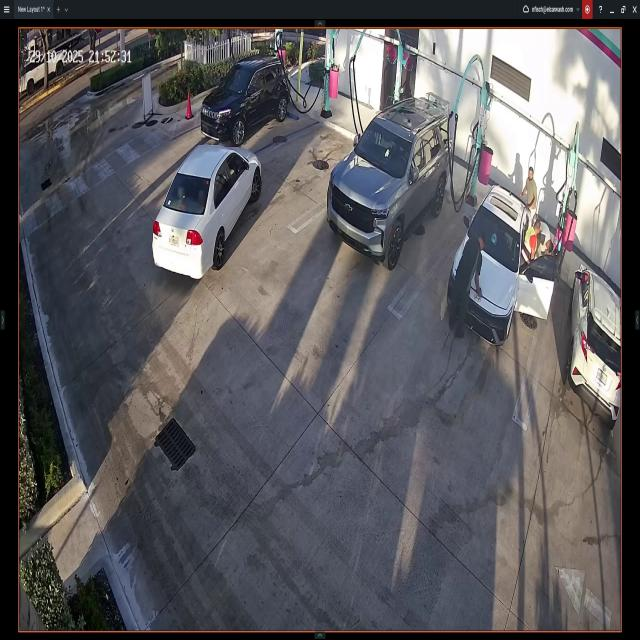Car: (329, 96, 447, 266), (449, 185, 555, 334), (152, 146, 261, 280), (570, 266, 620, 422), (201, 58, 288, 144)
